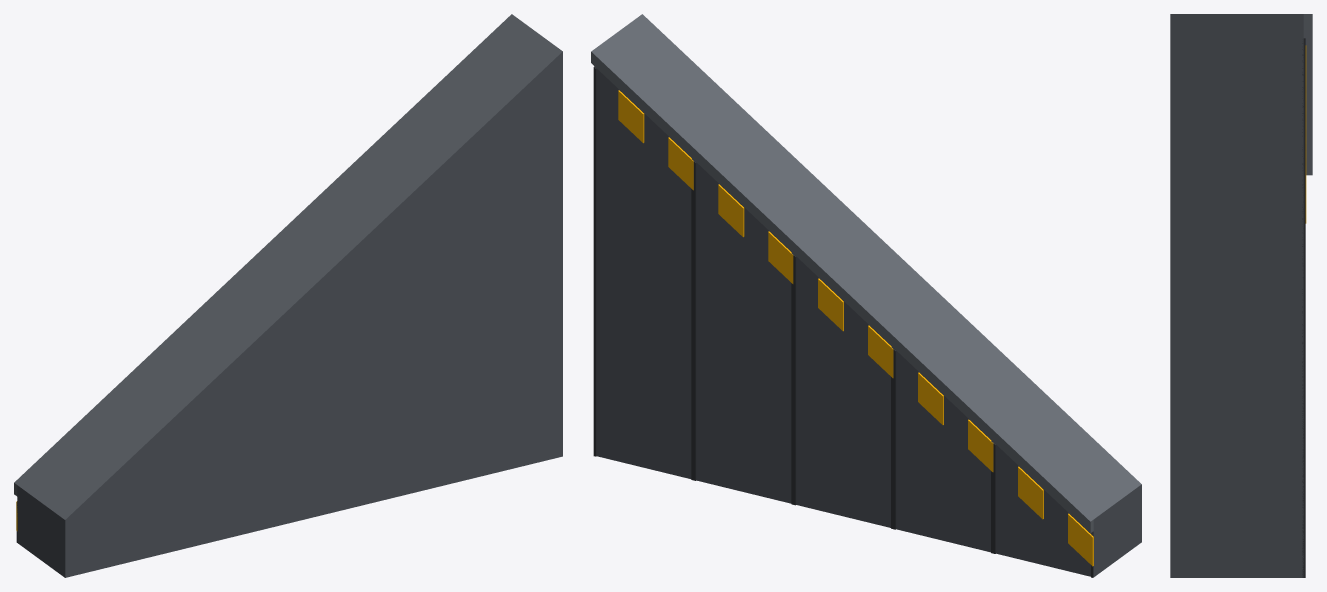
3 views of the same model, side by side, from view 1: azimuth 30°, elevation 25°; view 2: azimuth 150°, elevation 25°; view 3: azimuth 270°, elevation 25° (orthographic). The views are drawn at different scales.
Visible parts, largest first — view 1: b3w; view 2: b3w; view 3: b3w.
Part boxes in pixels (<box>): b3w: <box>14,14,562,577</box>; b3w: <box>591,14,1141,577</box>; b3w: <box>1170,14,1312,577</box>.
Bounding box in the file's own units: 9 × 7 × 1.6.
